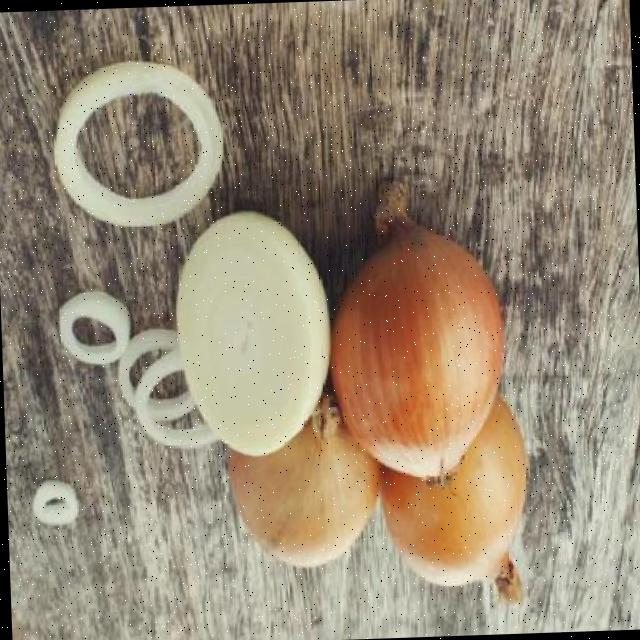Onion: (331, 179, 502, 477), (380, 397, 525, 603), (226, 396, 376, 567)
